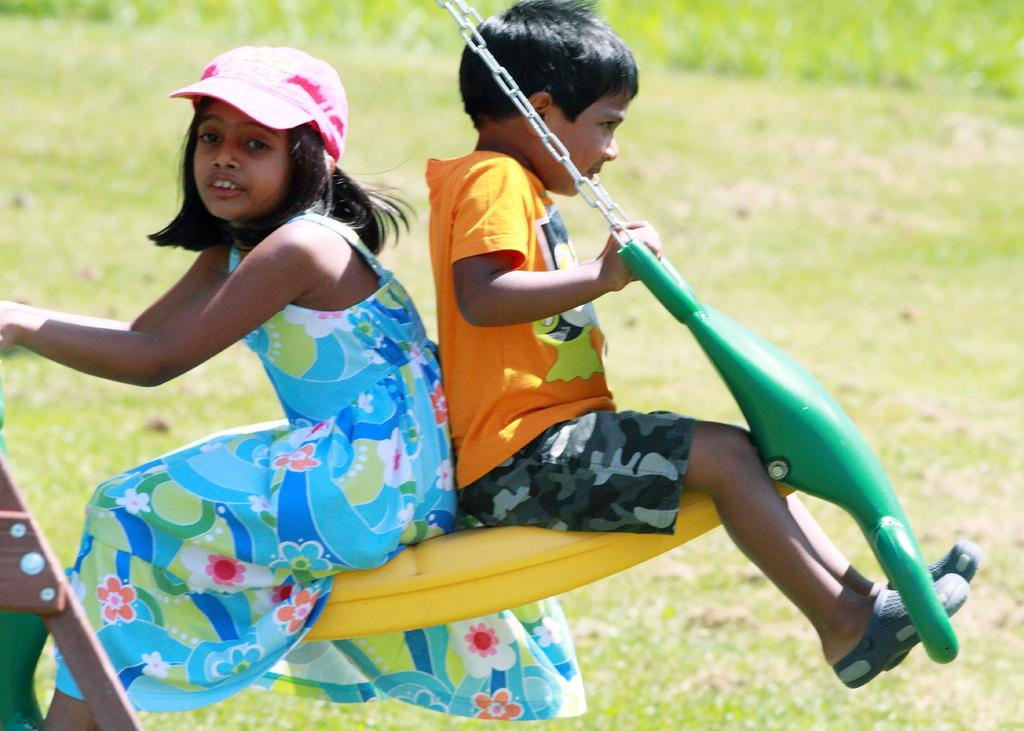Hat: (166, 42, 350, 164)
